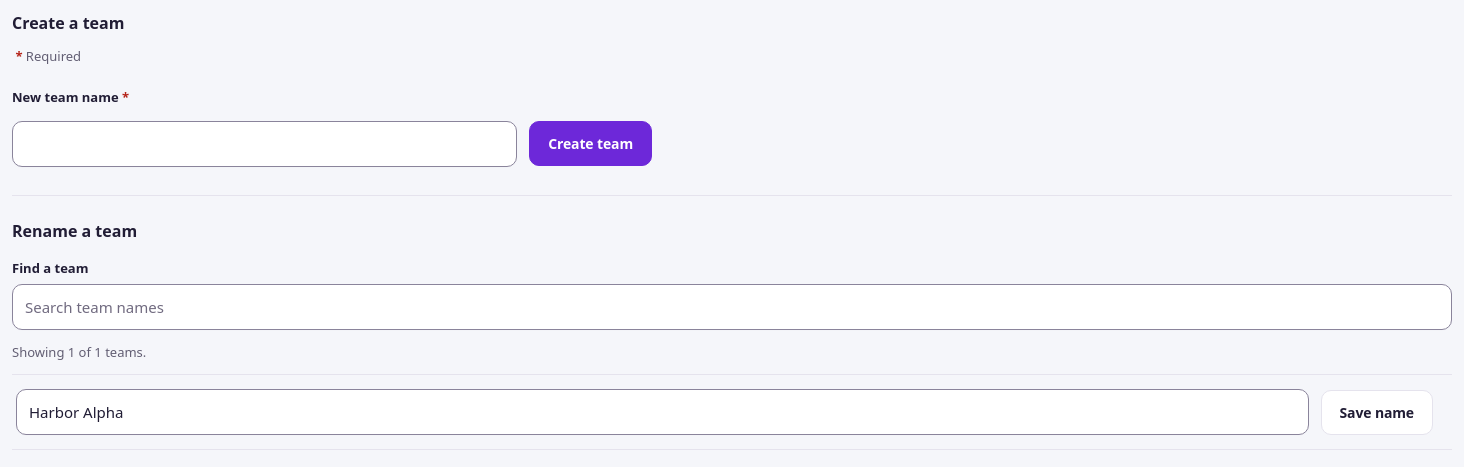
keeps a filtered team visible while its name is being edited and preserves drafts across search
Type "Alpha" into the search field labelled "Find a team" at (732, 307), box [12,284,1452,330]
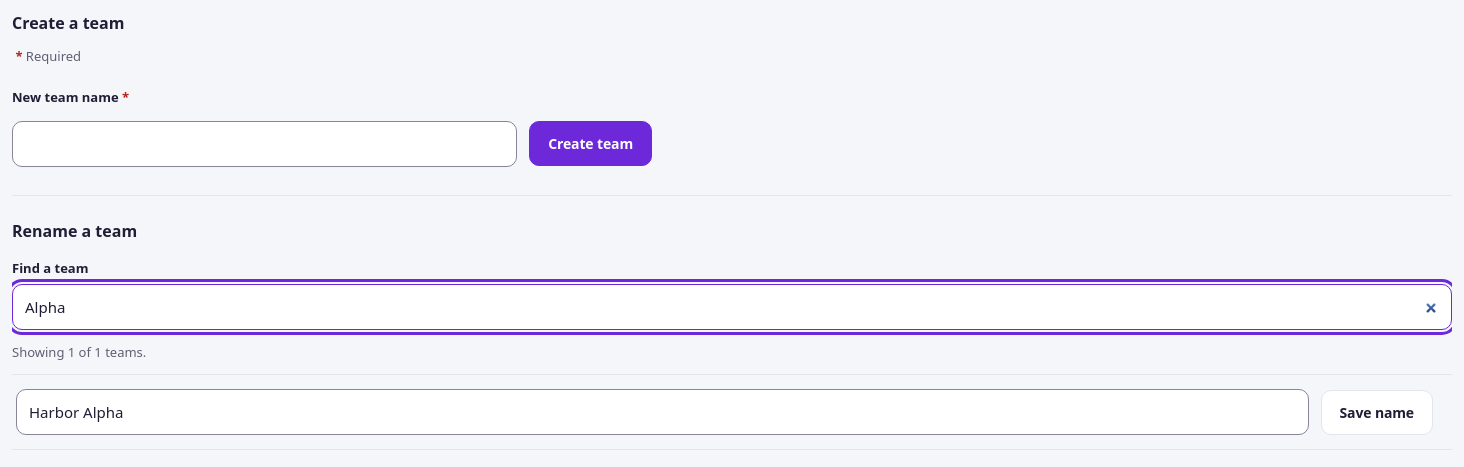
Replace the text in the field named "Name of Harbor Alpha" with "Renamed team" at (662, 412), box [16,389,1308,435]
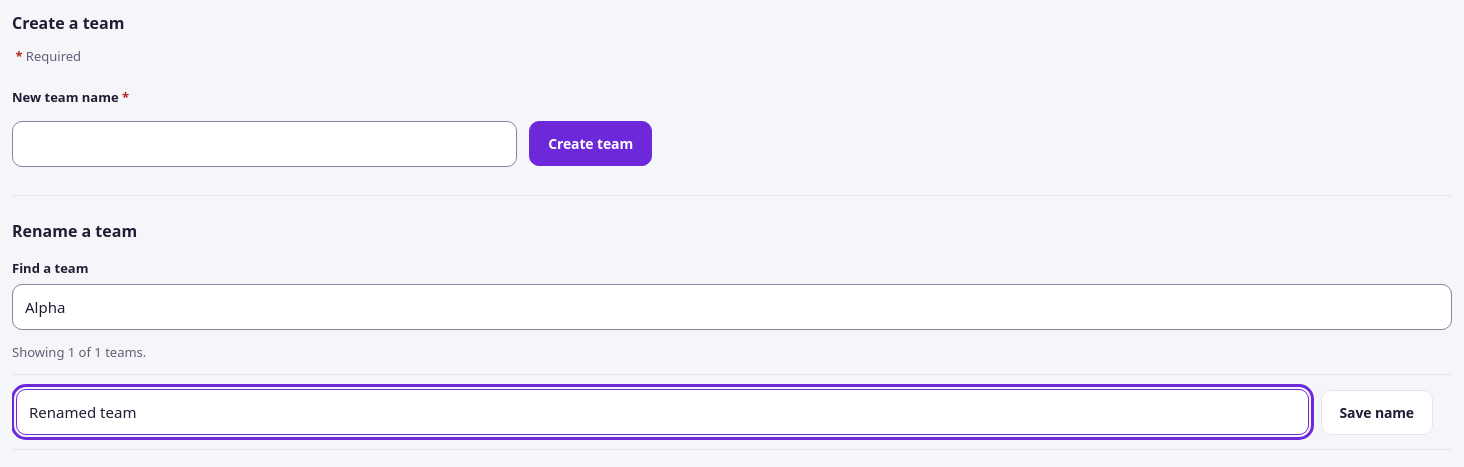
Replace the text in the search field labelled "Find a team" with "No match" at (732, 307), box [12,284,1452,330]
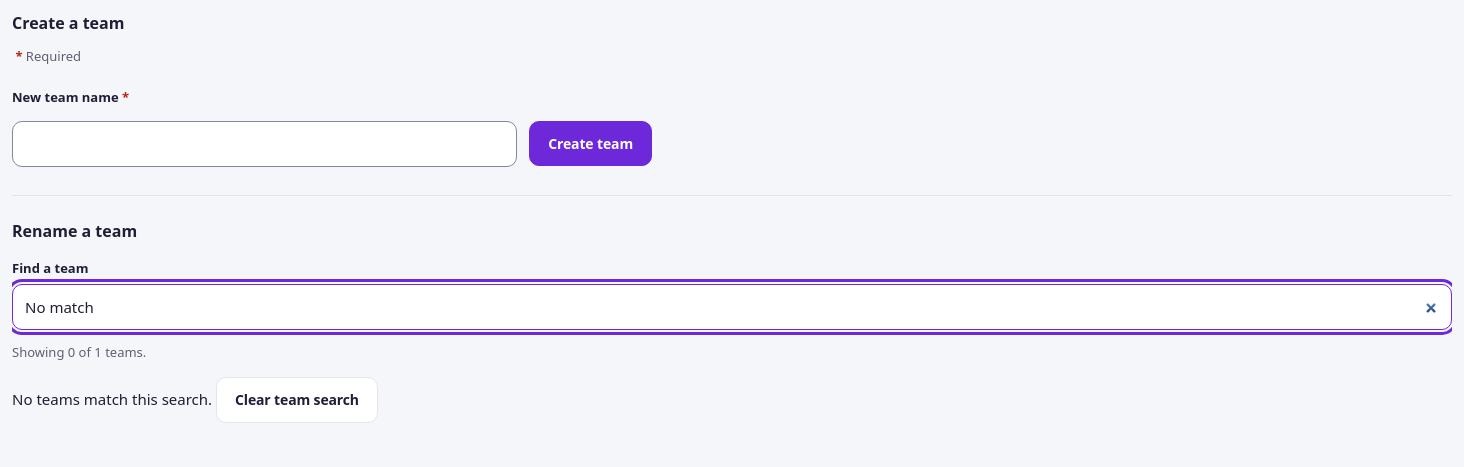
Click the button "Clear team search" at (297, 400), box [216,377,378,423]
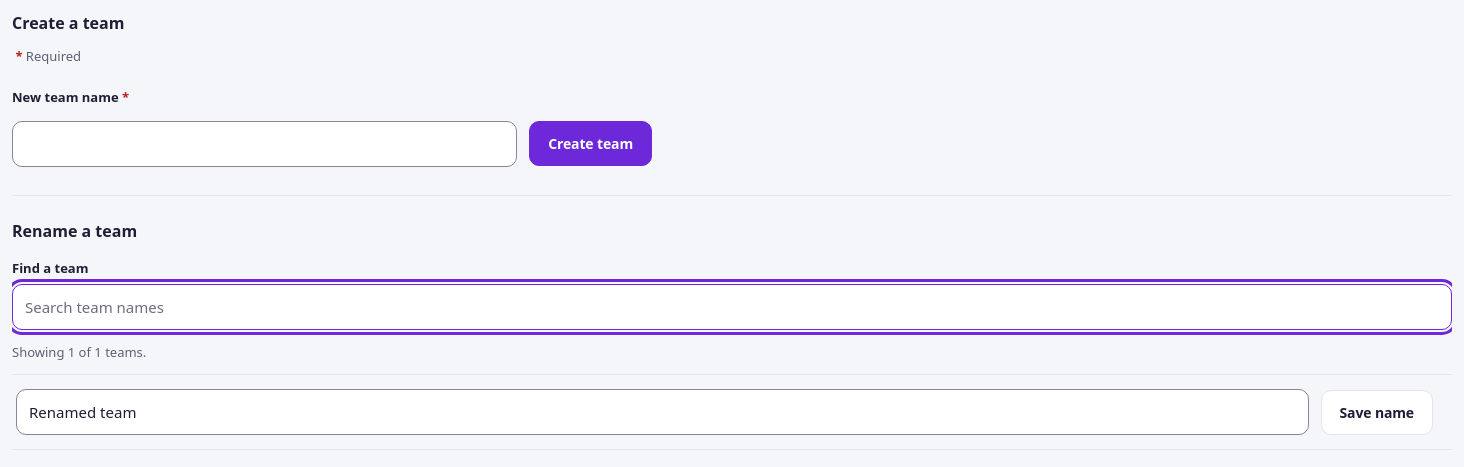
Result: the field named "Name of Harbor Alpha" holds "Renamed team" at [16,389,1308,435]
